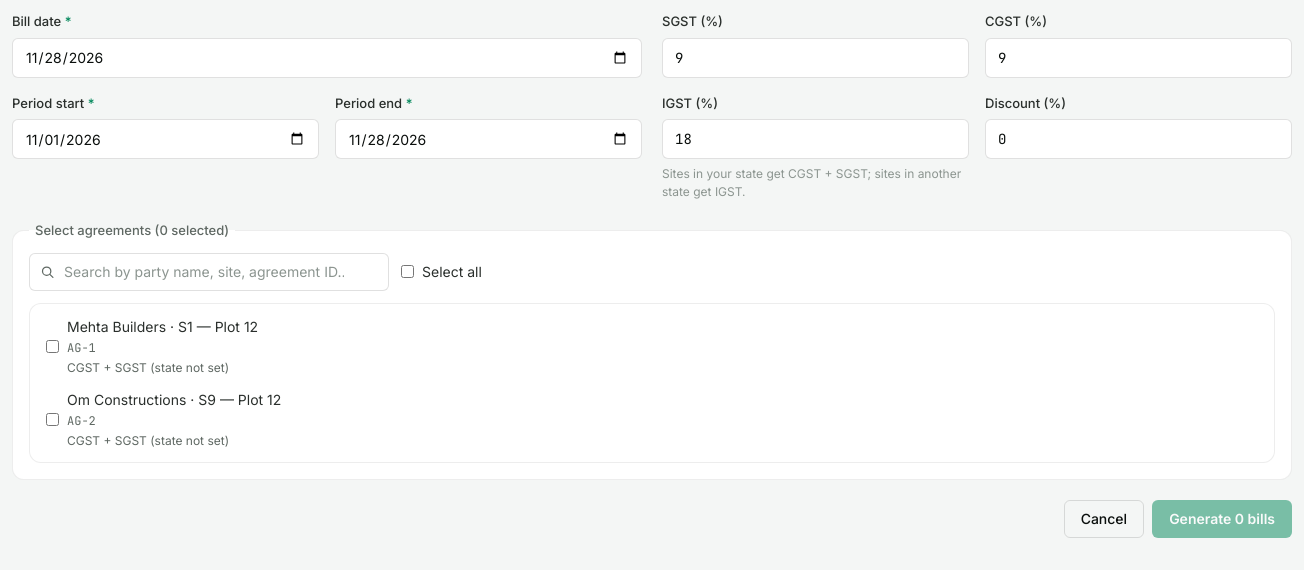
Scenario: BulkBillForm › warns when the period runs over more than one month
Type "2026-06-01" into the date field labelled "Period start *" at (166, 139), box x1=12 y1=119 x2=319 y2=159
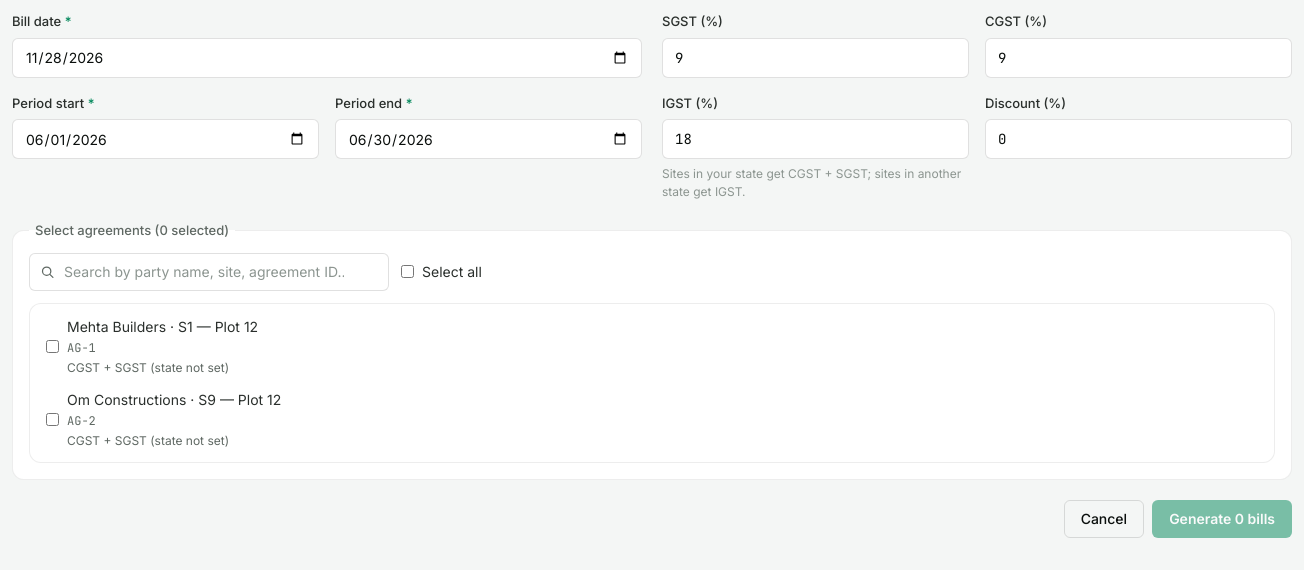
Type "2026-11-30" into the date field labelled "Period end *" at (488, 139), box x1=335 y1=119 x2=642 y2=159
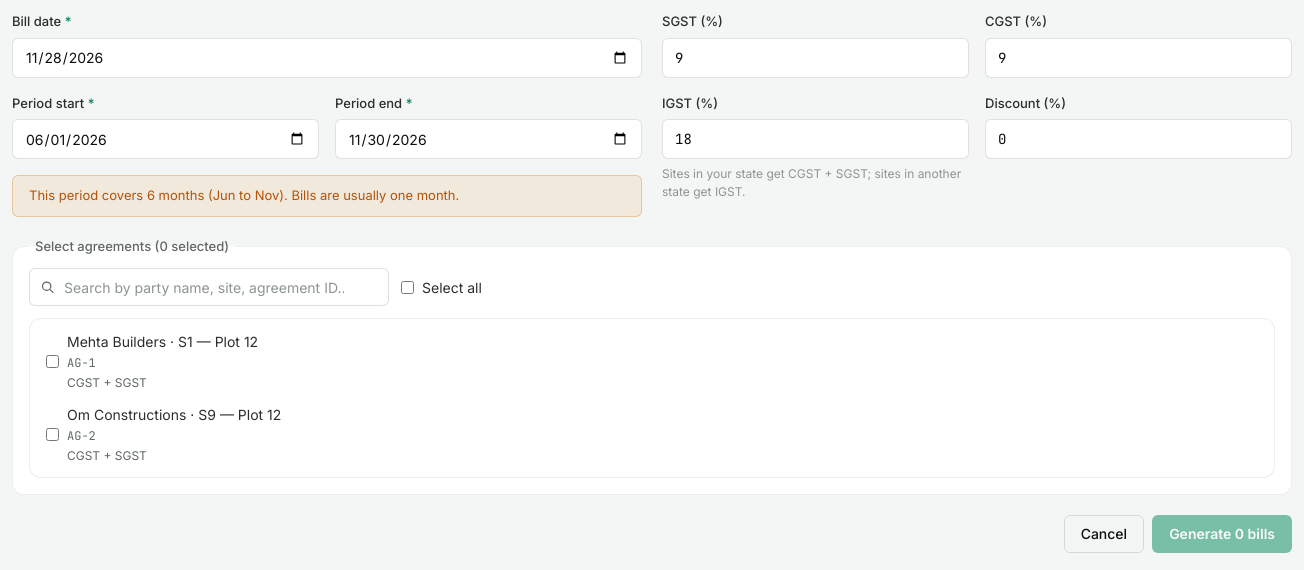
Check: the message shows "This period covers 6 months (Jun to Nov)", box x1=29 y1=187 x2=459 y2=203
